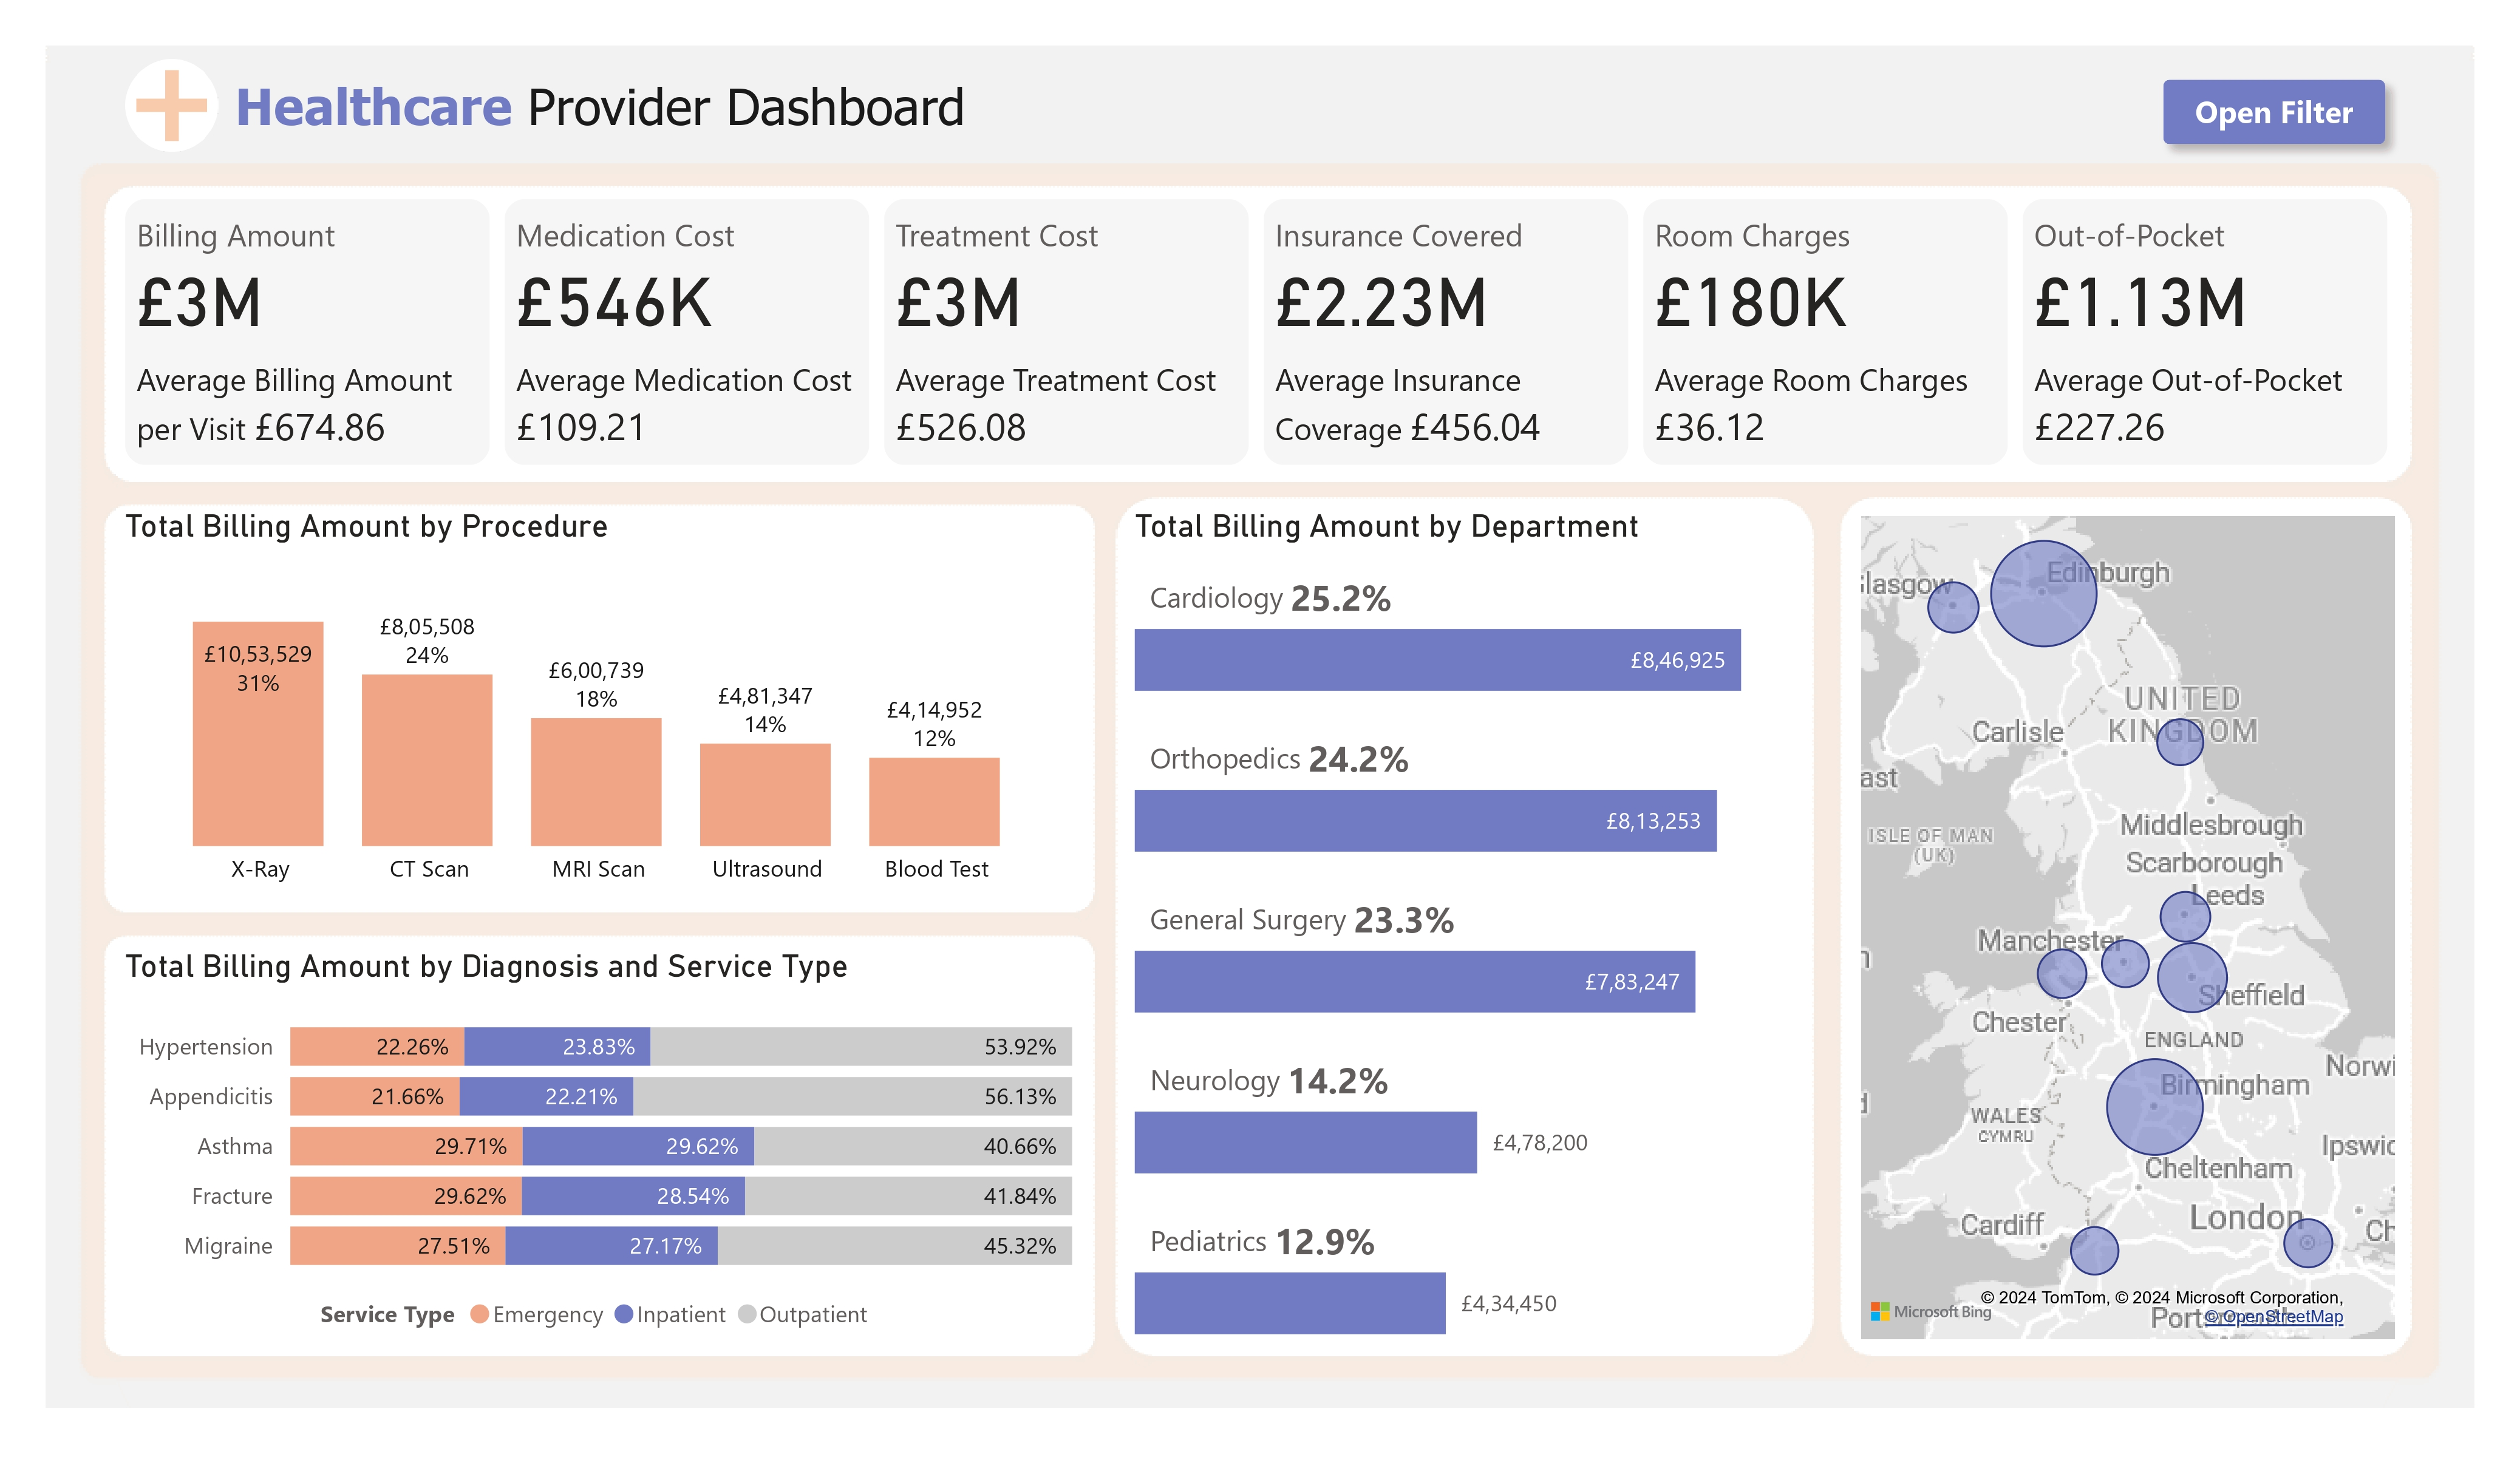

The page's visual inventory and layout, read from the dashboard file:
{"tool":"powerbi","page":{"name":"Detail Page","canvas":[1280,720],"ordinal":0},"visuals":[{"type":"cardVisual","fields":{"Data":["DAX Calculation.Total Billing Amount","DAX Calculation.Total Medication cost","DAX Calculation.Total Treatment cost","DAX Calculation.Total Insurance covered","DAX Calculation.Total Room Charges","DAX Calculation.Out-of-Pocket"]},"box":[37.4,76.3,1205.3,149.8],"z":0},{"type":"actionButton","title":"Open","box":[1107.3,8.9,135.4,52.1],"z":1000,"group":"g1"},{"type":"map","fields":{"Category":["cities.City"],"Size":["DAX Calculation.Total Billing Amount"]},"box":[951.8,243.4,290.9,443.5],"z":1000},{"type":"clusteredColumnChart","fields":{"Category":["procedures.Procedure"],"Y":["DAX Calculation.Total Billing Amount"]},"box":[37.4,243.4,508.3,208.8],"z":2000},{"type":"hundredPercentStackedBarChart","fields":{"Y":["DAX Calculation.Total Billing Amount"],"Category":["diagnoses.Diagnosis"],"Series":["visits.Service Type"]},"box":[37.4,475.2,508.3,211.7],"z":3000},{"type":"clusteredBarChart","title":"Total Billing Amount by Department","fields":{"Category":["departments.Department"],"Y":["DAX Calculation.Blank Measures","DAX Calculation.Total Billing Amount"]},"box":[568.8,243.4,357.1,443.5],"z":4000},{"type":"textbox","box":[95,10.1,403.2,51.8],"z":5000},{"type":"group","id":"g1","title":"Slicer Btns","box":[1107.3,8.9,135.4,52.1],"z":7000},{"type":"image","box":[37.4,1.4,59,60.5],"z":8000}]}

Visuals, with their boxes on the page's 1280x720 design canvas (x1, y1, x2, y2). These are canvas units, not pixel positions in the 2520x1457 screenshot, which may show the page scaled, cropped or inside an application window:
cardVisual - DAX Calculation.Total Billing Amount x DAX Calculation.Total Medication cost: <box>37,76,1243,226</box>
"Open" actionButton: <box>1107,9,1243,61</box>
map - cities.City x DAX Calculation.Total Billing Amount: <box>952,243,1243,687</box>
clusteredColumnChart - procedures.Procedure x DAX Calculation.Total Billing Amount: <box>37,243,546,452</box>
hundredPercentStackedBarChart - DAX Calculation.Total Billing Amount x diagnoses.Diagnosis: <box>37,475,546,687</box>
"Total Billing Amount by Department" clusteredBarChart: <box>569,243,926,687</box>
textbox: <box>95,10,498,62</box>
"Slicer Btns" group: <box>1107,9,1243,61</box>
image: <box>37,1,96,62</box>
